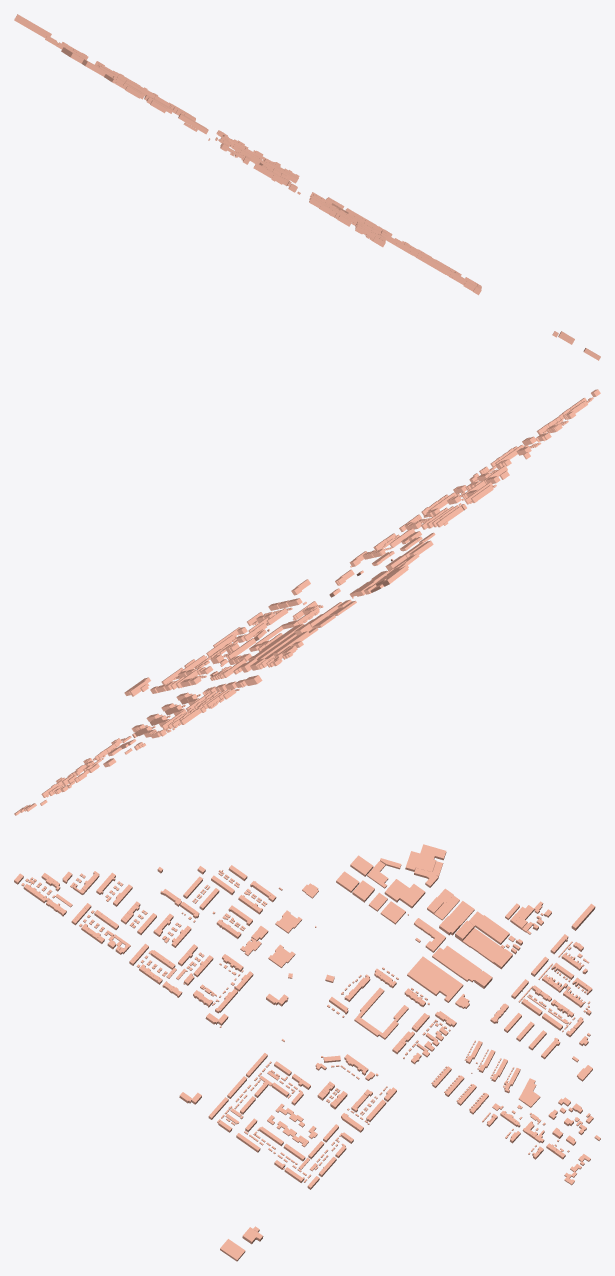
The picture shows the model from 3 angles, top to bottom: view 1: azimuth 30°, elevation 25°; view 2: azimuth 150°, elevation 25°; view 3: azimuth 270°, elevation 25°; orthographic projection. The views are drawn at different scales.
Bounding box in the file's own units: 710 × 527 × 1088.
